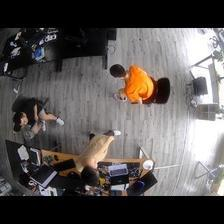normal: (109, 59, 169, 108), (8, 96, 65, 144), (78, 126, 121, 184)
